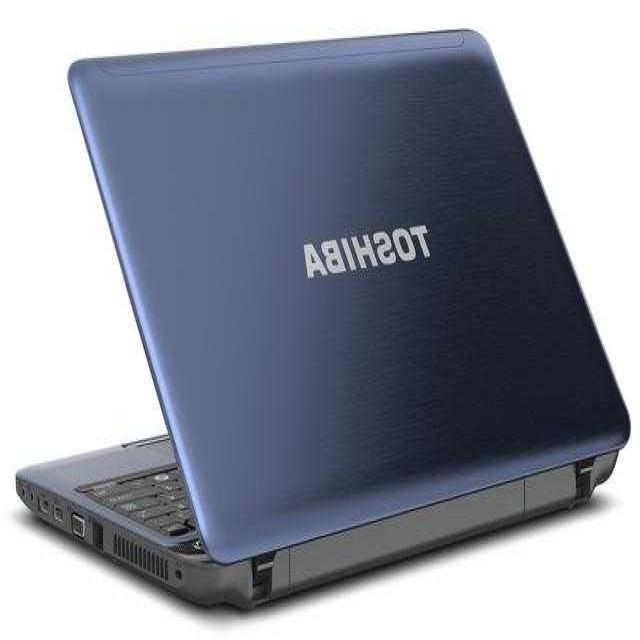laptop: (23, 33, 584, 598)
